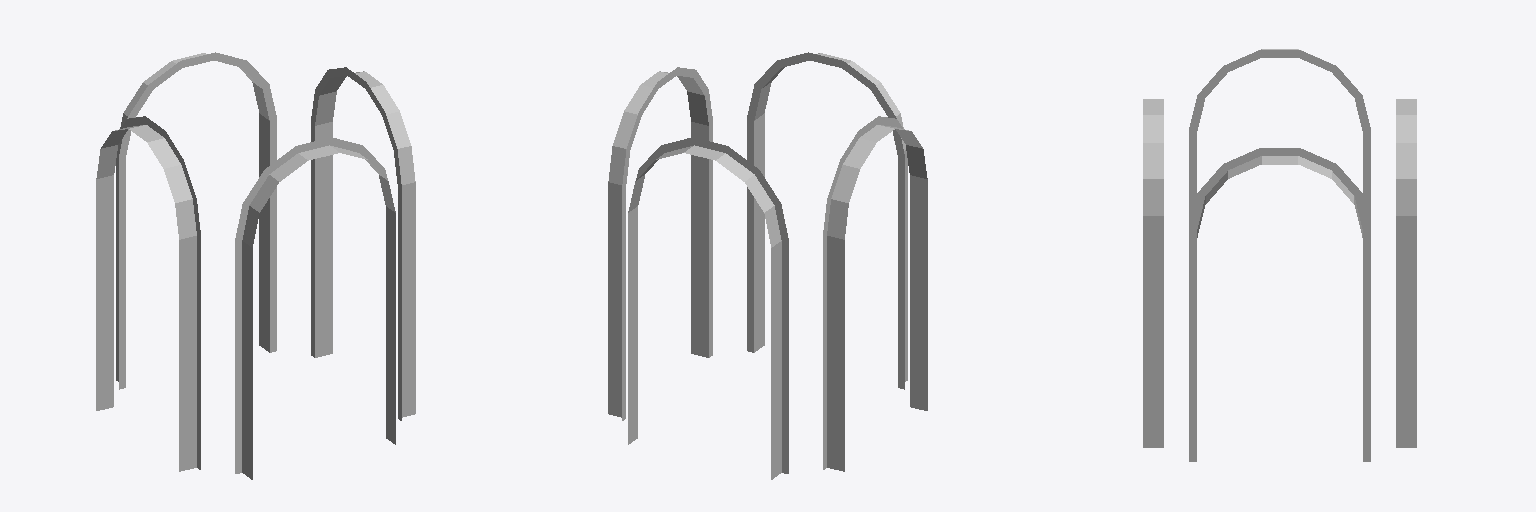
File: sm_hallway_02.obj
The picture shows the model from 3 angles: view 1: azimuth 30°, elevation 25°; view 2: azimuth 150°, elevation 25°; view 3: azimuth 270°, elevation 25°; orthographic projection.
Visible parts, largest first — view 1: sm_hallway_02; view 2: sm_hallway_02; view 3: sm_hallway_02.
Part boxes in pixels (left/top/right/bottom): sm_hallway_02: left=96, top=52, right=415, bottom=479; sm_hallway_02: left=608, top=52, right=927, bottom=479; sm_hallway_02: left=1143, top=49, right=1416, bottom=461.
Size of the model in its own units: 5 by 6.34 by 5.